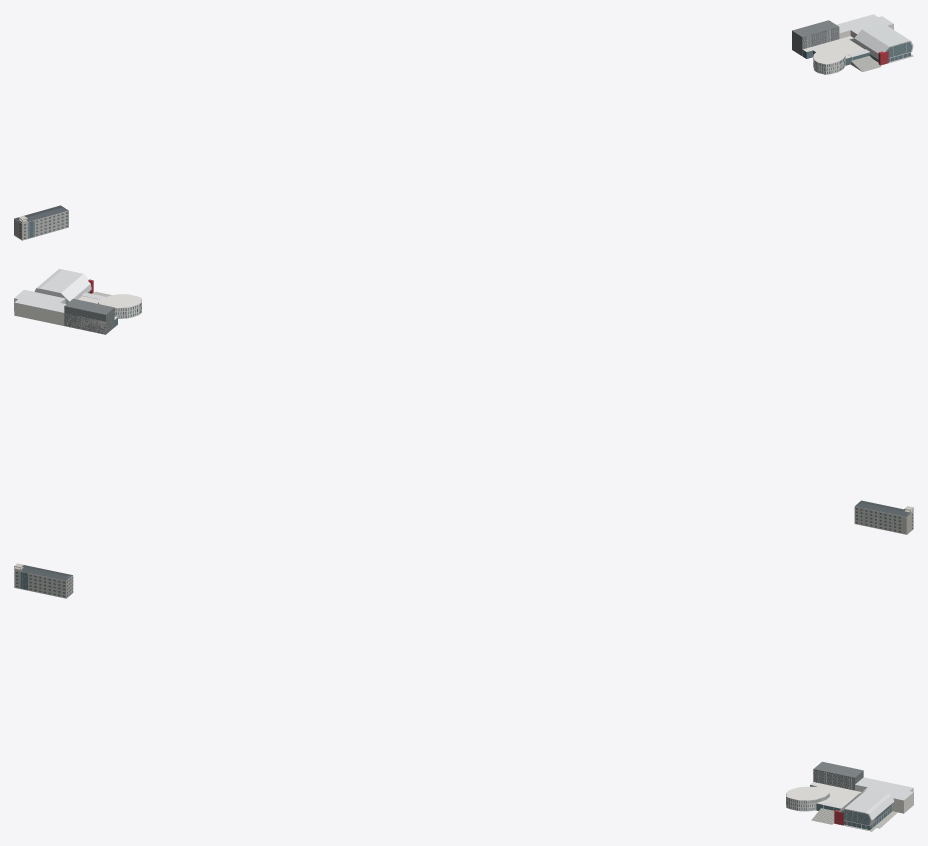
File: SEU_building_patch_v11.glb
3 views of the same model, one above another, from view 1: azimuth 30°, elevation 25°; view 2: azimuth 150°, elevation 25°; view 3: azimuth 330°, elevation 25° (orthographic). The views are drawn at different scales.
Parts seen in each view (by area): view 1: SEU_B_OSMWAY_300020024_PHOTO__silver_folded_envelope, SEU_B_OSMWAY_300030306_PHOTO_legacy_body_five_storeys, SEU_B_OSMWAY_300020023_PHOTO__rear_west_unverified_core, SEU_B_OSMWAY_300020023_PHOTO__rear_east_roof, SEU_B_OSMWAY_300020024_PHOTO__foyer_flat_roof; view 2: SEU_B_OSMWAY_300020023_PHOTO__rear_east_light, SEU_B_OSMWAY_300020024_PHOTO__silver_folded_envelope, SEU_B_OSMWAY_300020023_PHOTO__rear_west_unverified_core, SEU_B_OSMWAY_300030306_PHOTO_legacy_body_five_storeys, SEU_B_OSMWAY_300020023_PHOTO__rear_east_roof; view 3: SEU_B_OSMWAY_300020024_PHOTO__silver_folded_envelope, SEU_B_OSMWAY_300030306_PHOTO_legacy_body_five_storeys, SEU_B_OSMWAY_300020023_PHOTO__rear_east_roof, SEU_B_OSMWAY_300020023_PHOTO__rear_west_unverified_core, SEU_B_OSMWAY_300020024_PHOTO__foyer_flat_roof.
Part boxes in pixels (x1,y1,x2,y2): SEU_B_OSMWAY_300020024_PHOTO__silver_folded_envelope: (853, 23, 910, 59); SEU_B_OSMWAY_300030306_PHOTO_legacy_body_five_storeys: (14, 211, 68, 240); SEU_B_OSMWAY_300020023_PHOTO__rear_west_unverified_core: (792, 27, 839, 56); SEU_B_OSMWAY_300020023_PHOTO__rear_east_roof: (836, 14, 893, 34); SEU_B_OSMWAY_300020024_PHOTO__foyer_flat_roof: (802, 36, 864, 58); SEU_B_OSMWAY_300020023_PHOTO__rear_east_light: (14, 298, 105, 334); SEU_B_OSMWAY_300020024_PHOTO__silver_folded_envelope: (36, 269, 91, 301); SEU_B_OSMWAY_300020023_PHOTO__rear_west_unverified_core: (64, 306, 114, 334); SEU_B_OSMWAY_300030306_PHOTO_legacy_body_five_storeys: (854, 506, 913, 534); SEU_B_OSMWAY_300020023_PHOTO__rear_east_roof: (14, 290, 101, 320); SEU_B_OSMWAY_300020024_PHOTO__silver_folded_envelope: (839, 789, 894, 825); SEU_B_OSMWAY_300030306_PHOTO_legacy_body_five_storeys: (14, 570, 73, 598); SEU_B_OSMWAY_300020023_PHOTO__rear_east_roof: (855, 777, 913, 800); SEU_B_OSMWAY_300020023_PHOTO__rear_west_unverified_core: (813, 769, 863, 790); SEU_B_OSMWAY_300020024_PHOTO__foyer_flat_roof: (810, 782, 861, 805).
Bounding box in the file's own units: 981 × 22.7 × 92.14.
